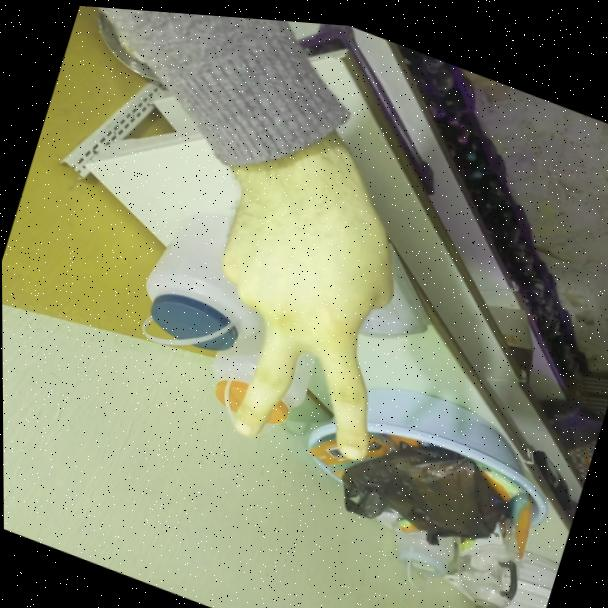two: (175, 121, 448, 478)
